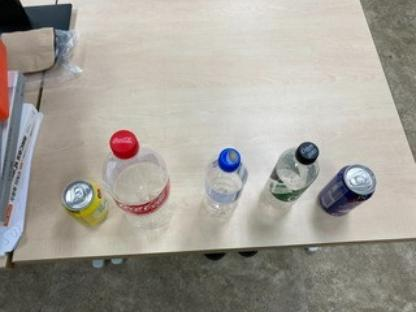Can: (320, 162, 378, 222), (59, 176, 109, 230)
Plastic Bottle: (100, 128, 176, 239), (258, 138, 320, 232), (201, 146, 250, 230)
